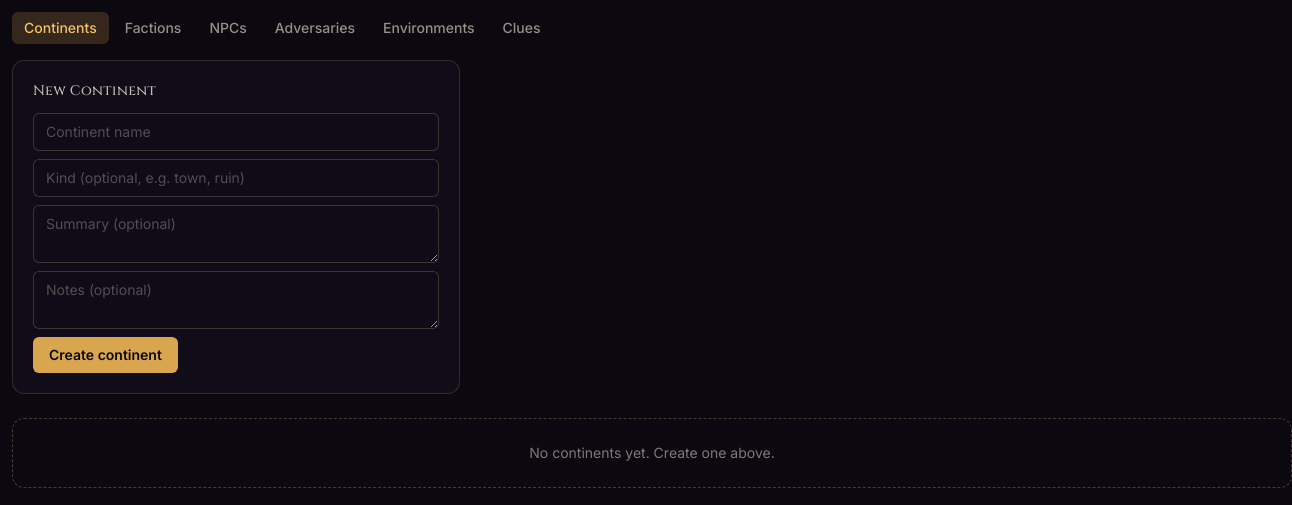
Test: LibraryPage › Clues tab › shows an empty state when no clues exist yet
The width and height of the screenshot is (1292, 505).
Click the button "Clues".
click(522, 28)  # box left=491, top=12, right=553, bottom=44
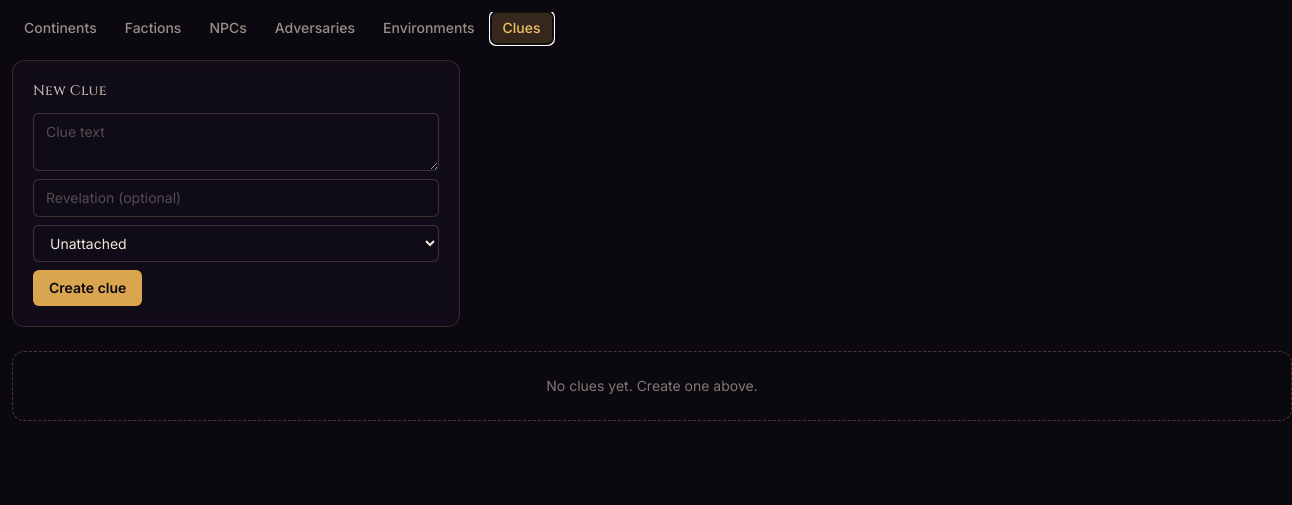
Check: the text "No clues yet. Create one above." is shown, box left=12, top=351, right=1291, bottom=421
